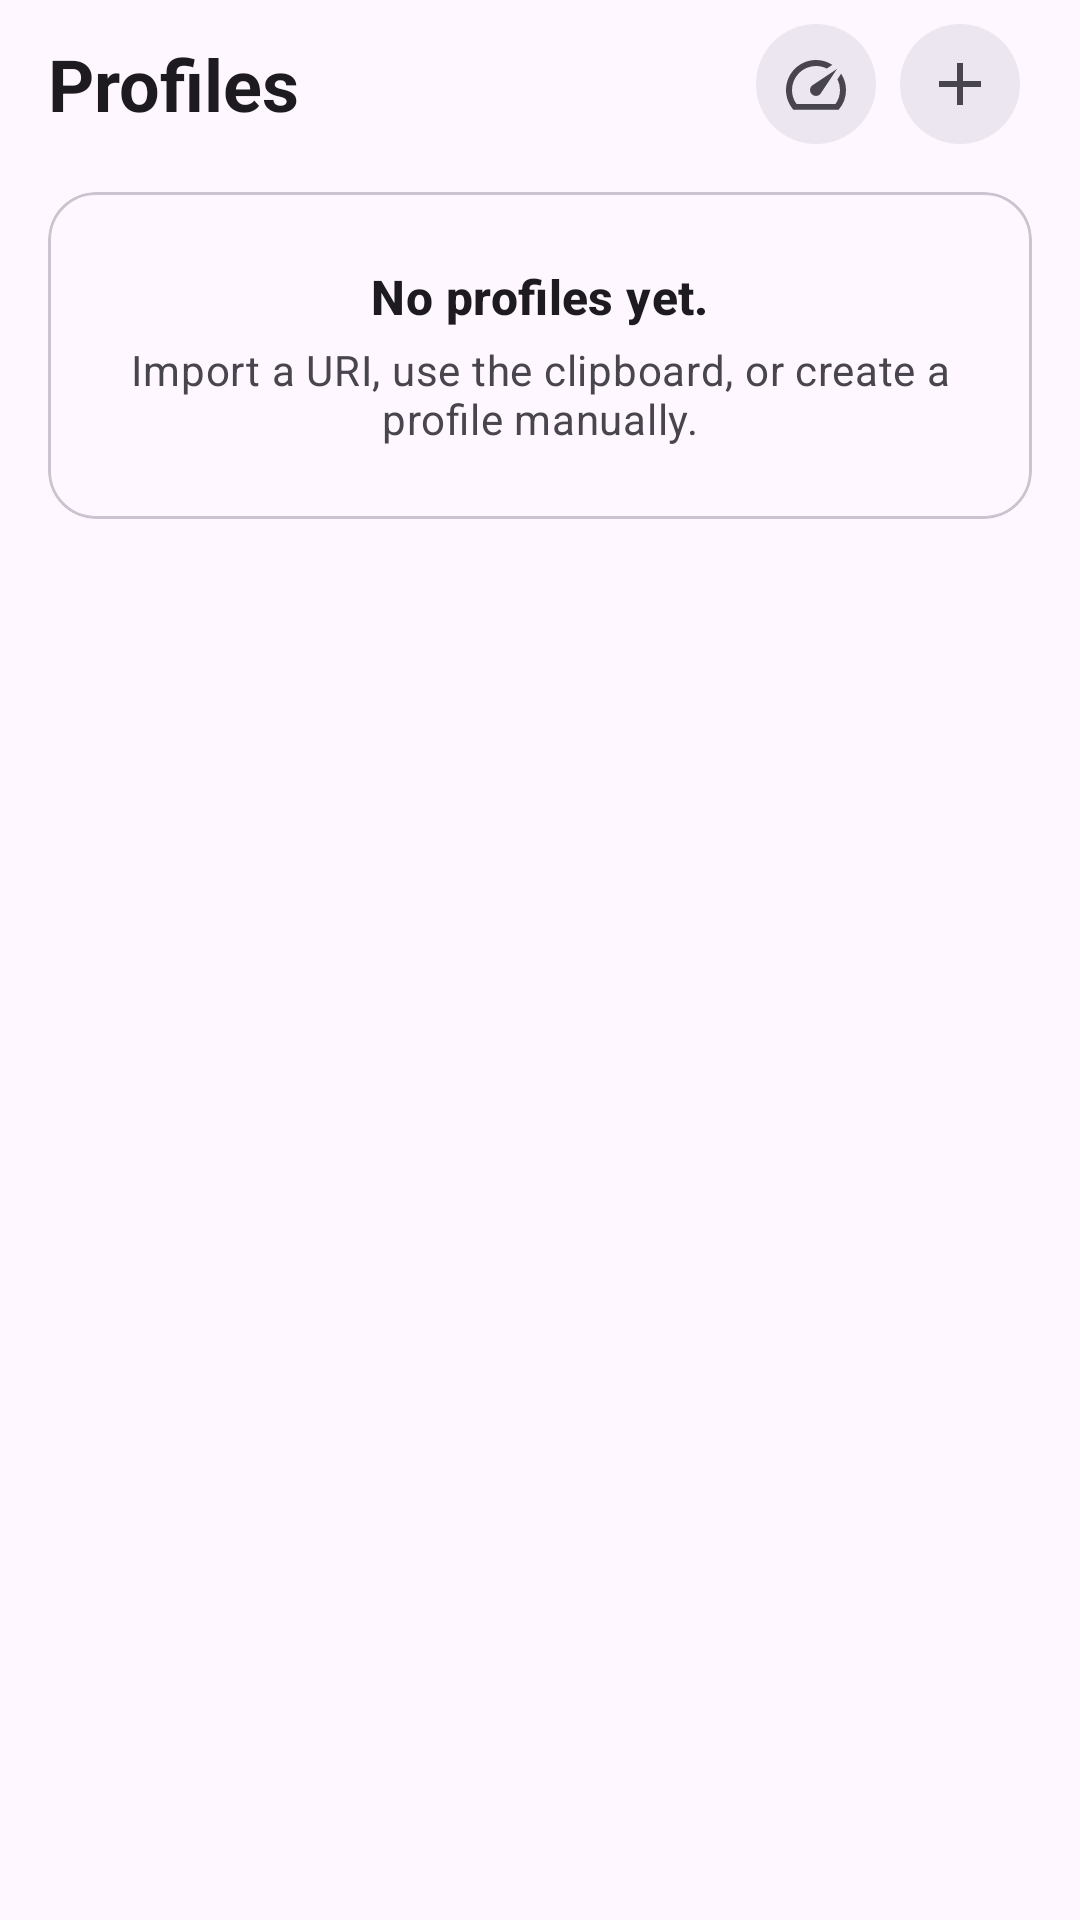

Locate icon controls on the screen. Image size 1080 x 1920, boxes as Rect(x1, y1, x2, y2).
Add profile: Rect(900, 24, 1020, 144)
Test all latency: Rect(756, 24, 876, 144)
